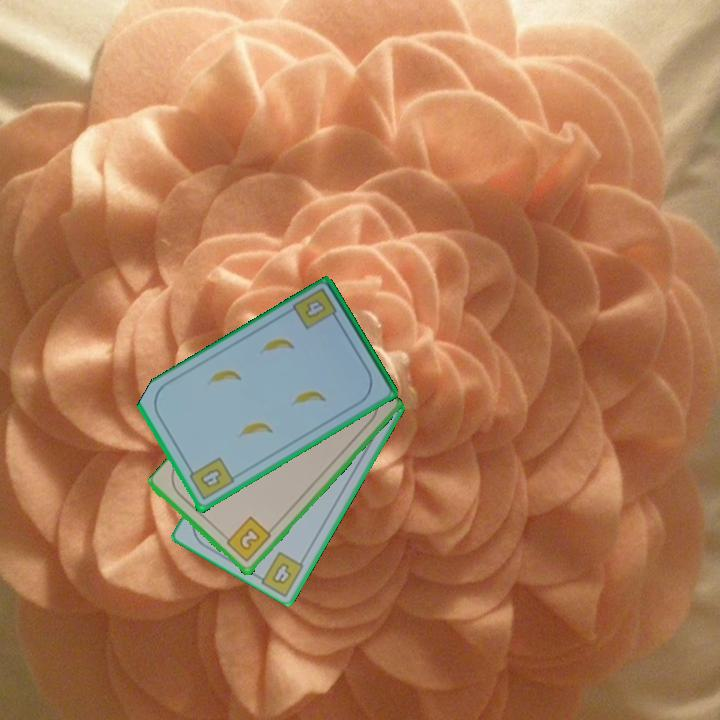2b: (220, 514, 274, 565)
4b: (184, 454, 237, 504), (289, 284, 343, 333), (268, 559, 294, 588)
